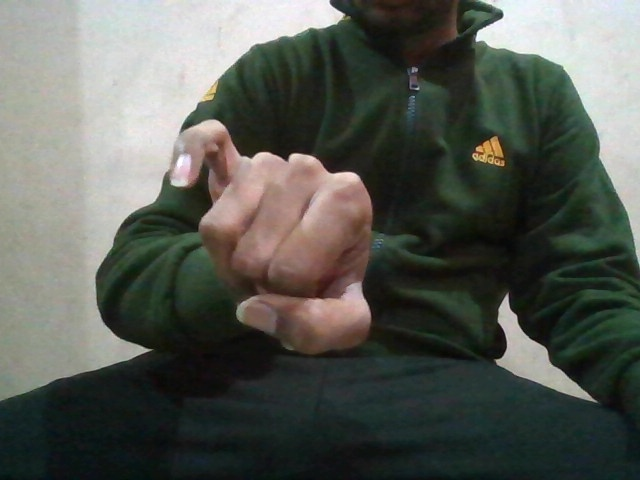J: (164, 114, 380, 347)
